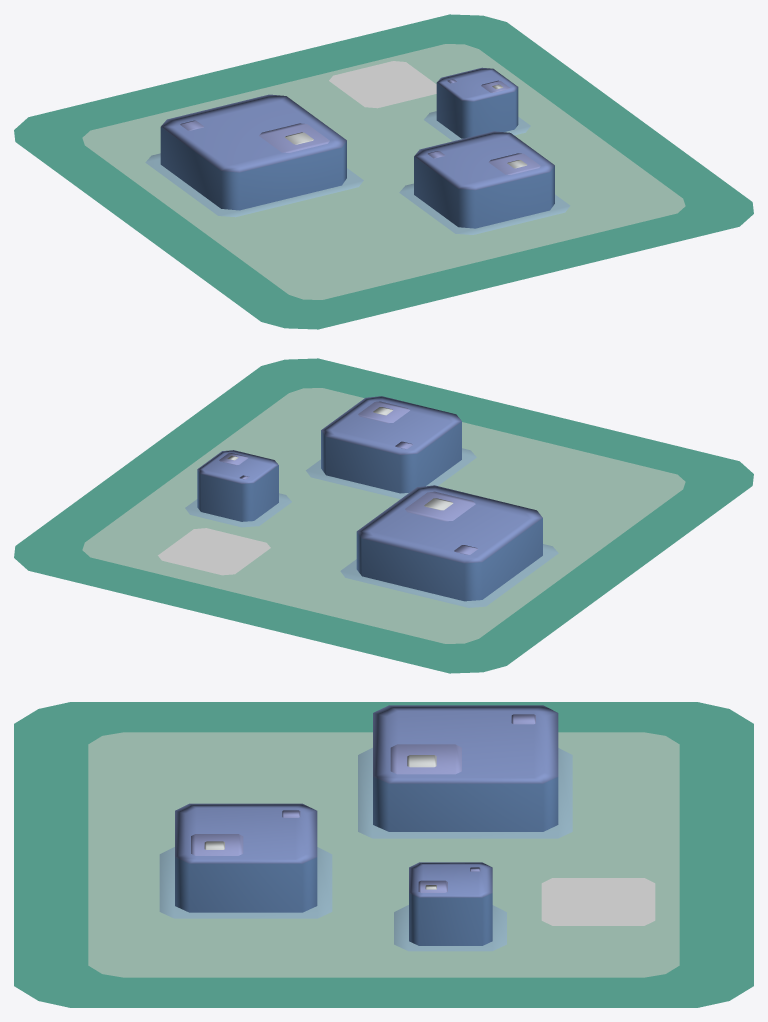
File: BC_cookrecipe_S_06.fbx
3 renders of one model, top to bottom at view 1: azimuth 30°, elevation 25°; view 2: azimuth 150°, elevation 25°; view 3: azimuth 270°, elevation 25°, orthographic. The views are drawn at different scales.
Visible parts, largest first — view 1: BC_cookrecipe_S_05_bubble_02:BC_cookrecipe_S_05_bubble_02:BC (×6); view 2: BC_cookrecipe_S_05_bubble_02:BC_cookrecipe_S_05_bubble_02:BC (×6); view 3: BC_cookrecipe_S_05_bubble_02:BC_cookrecipe_S_05_bubble_02:BC (×6).
Boxes of the visible parts, x1=… form: BC_cookrecipe_S_05_bubble_02:BC_cookrecipe_S_05_bubble_02:BC (×6): x1=14, y1=14, x2=753, y2=329; BC_cookrecipe_S_05_bubble_02:BC_cookrecipe_S_05_bubble_02:BC (×6): x1=14, y1=358, x2=753, y2=673; BC_cookrecipe_S_05_bubble_02:BC_cookrecipe_S_05_bubble_02:BC (×6): x1=14, y1=702, x2=753, y2=1007.
Size of what is drawn, in the model's own units: 3.43 by 0.5857 by 3.51.
